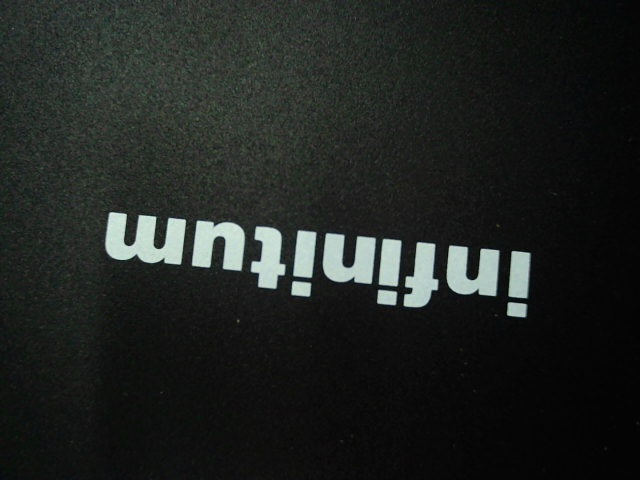BK_infinitum: (95, 191, 541, 325)
